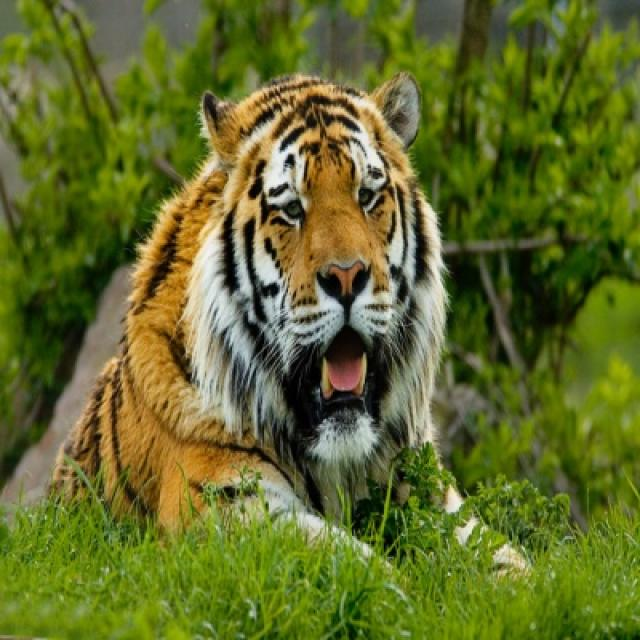Tiger: (51, 70, 515, 567)
